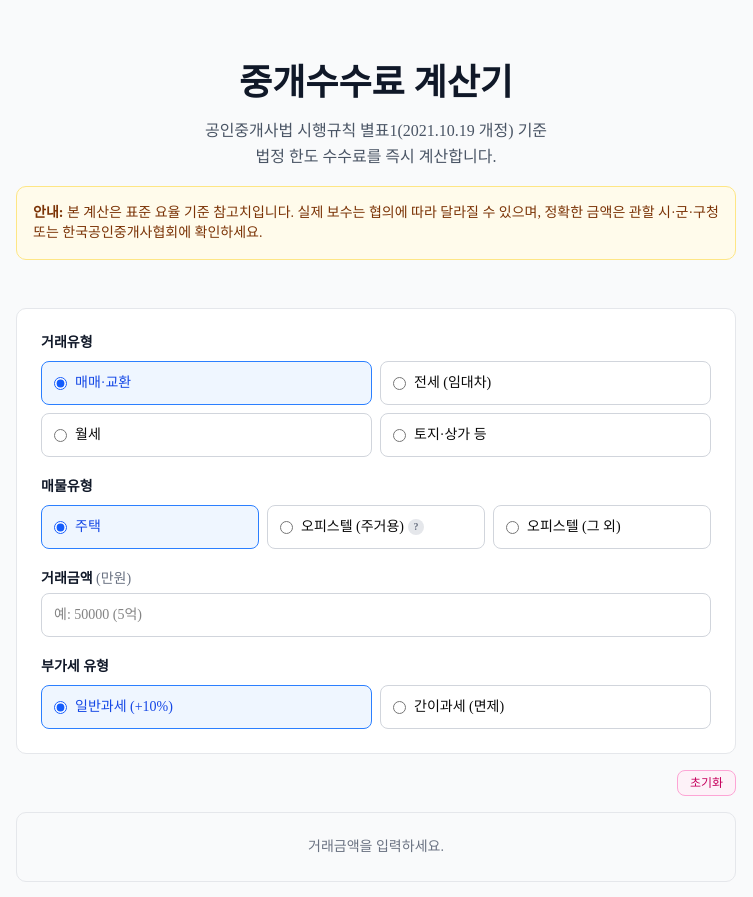
Scenario: /tools/brokerage-fee 페이지 › 매매 + 5억 입력 → 총 청구액 220만원 표시 (부가세 일반)
Step 1. Type "50000" into the number field labelled "거래금액 (만원)" → (376, 615), box [41,593,711,637]
(page scrolled)
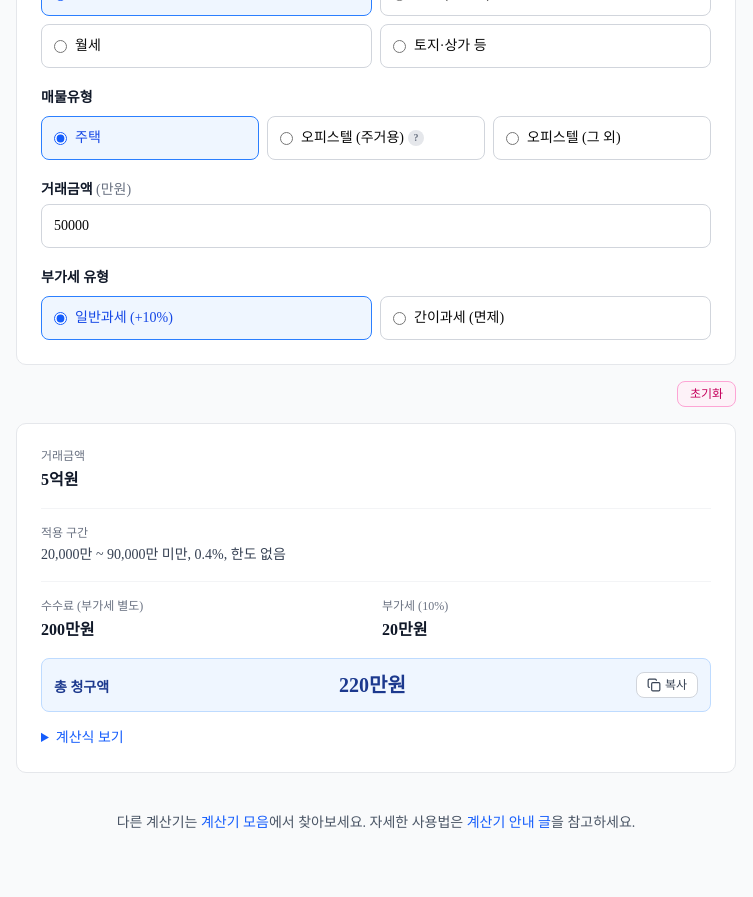
Expected: the text "총 청구액" is shown, [54,678,109,698]
Expected: the text "220만원" is shown, [339,671,406,699]
